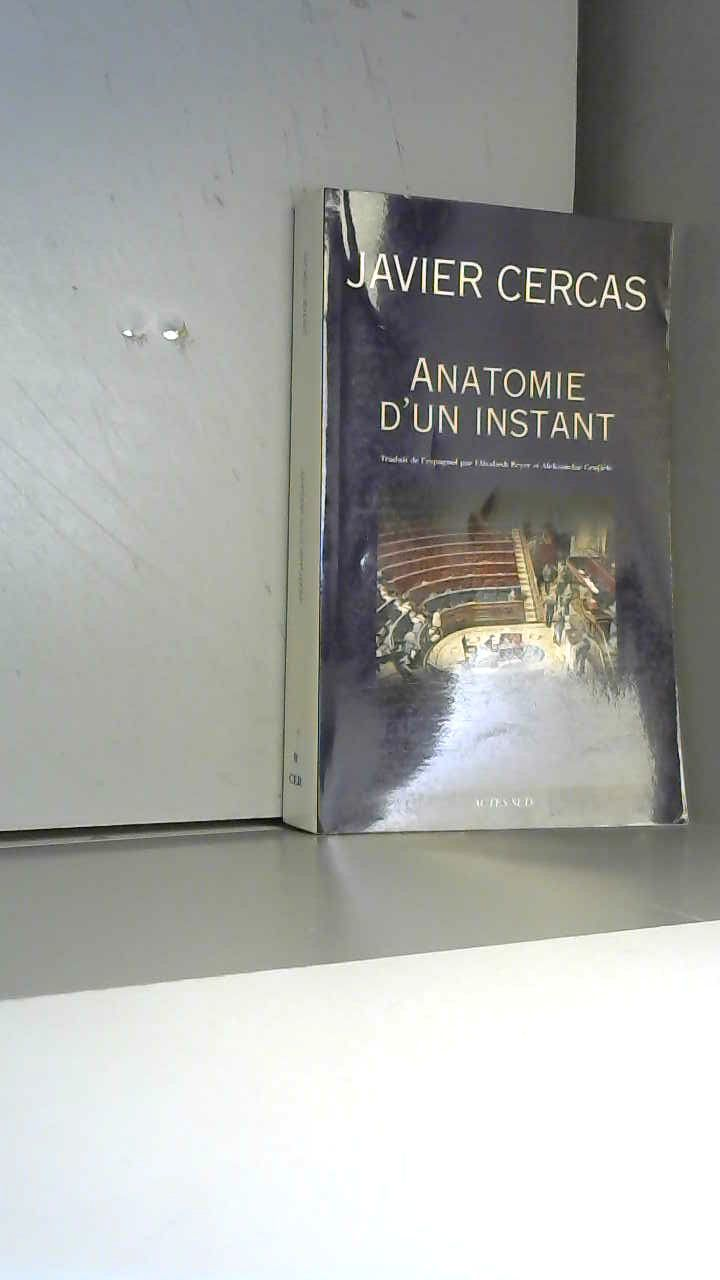book: (290, 160, 720, 940)
